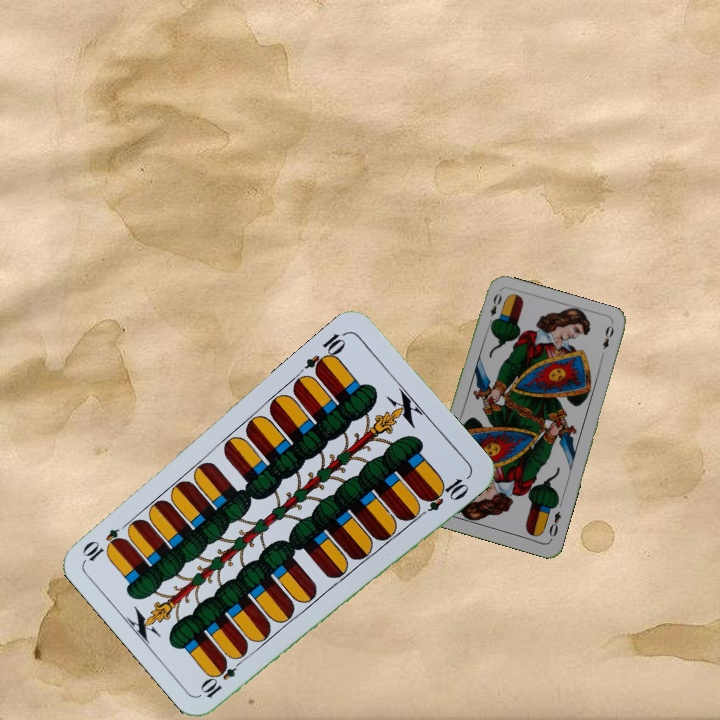E10: (301, 327, 350, 378), (197, 653, 247, 701)
EO: (484, 289, 504, 328), (545, 507, 564, 543)
